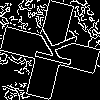K: (25, 25, 78, 69)
